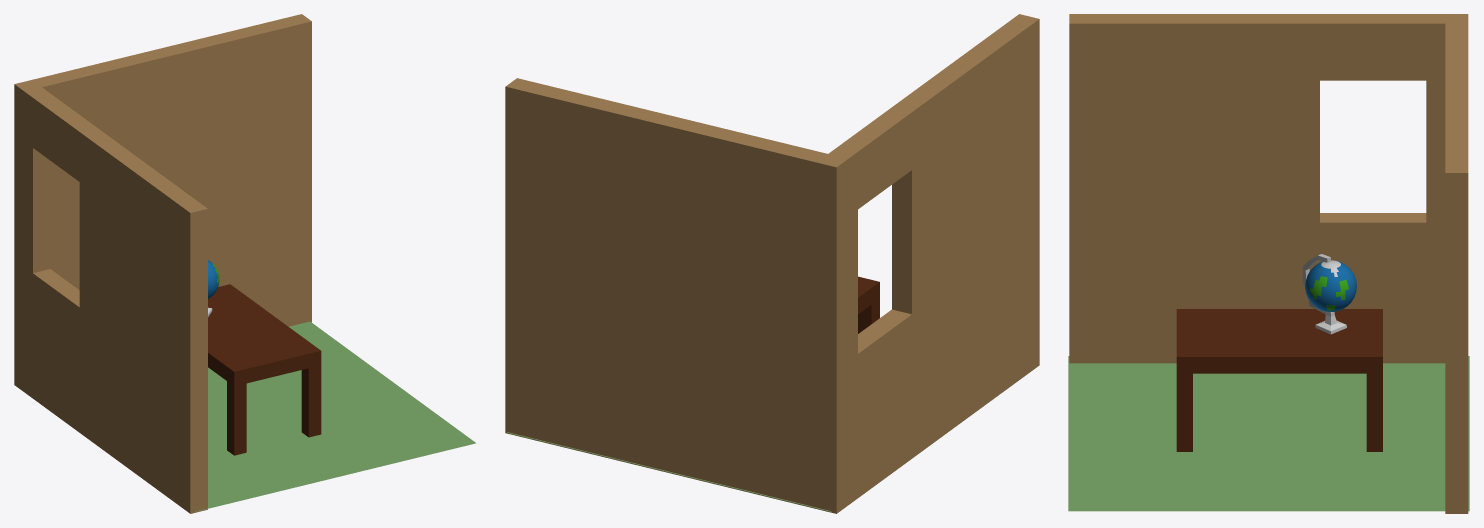
Rendered from room.obj.
3 views of the same model, side by side, from view 1: azimuth 30°, elevation 25°; view 2: azimuth 150°, elevation 25°; view 3: azimuth 270°, elevation 25° (orthographic). The views are drawn at different scales.
Parts seen in each view (by area): view 1: Cube.001, Cube.002, Plane, Cube.003; view 2: Cube.002, Cube.001, Cube.003; view 3: Cube.001, Plane, Cube.003, Cube.002, Sphere, Cube.004.
Part boxes in pixels (x1,y1,x2,y2): Cube.001: [24, 87, 207, 513]; Cube.002: [14, 14, 311, 391]; Plane: [195, 321, 475, 511]; Cube.003: [208, 284, 321, 455]; Cube.002: [505, 78, 848, 513]; Cube.001: [828, 14, 1039, 504]; Cube.003: [858, 276, 879, 333]; Cube.001: [1069, 14, 1445, 363]; Plane: [1068, 356, 1469, 511]; Cube.003: [1176, 309, 1382, 451]; Cube.002: [1445, 14, 1468, 513]; Sphere: [1305, 260, 1356, 311]; Cube.004: [1302, 254, 1346, 334].
Bounding box in the file's own units: 6.61 × 6.68 × 7.06.
